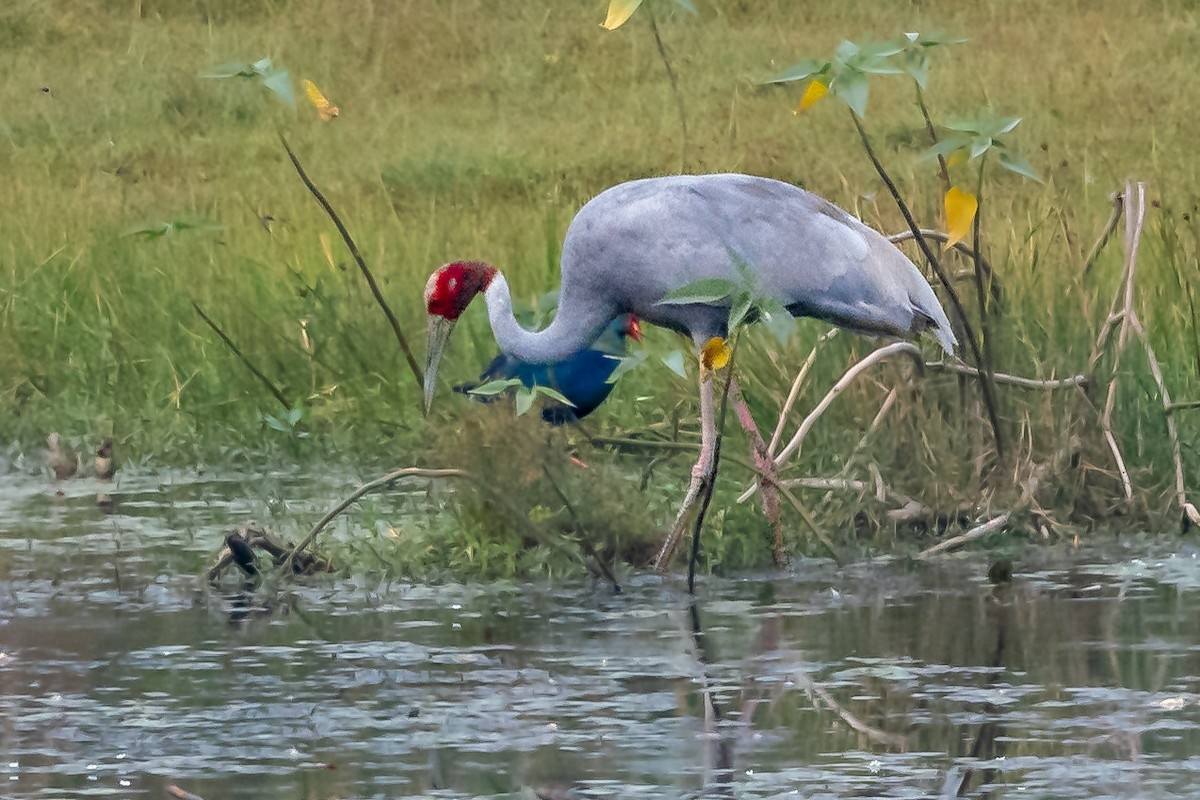crane: (423, 173, 967, 580)
